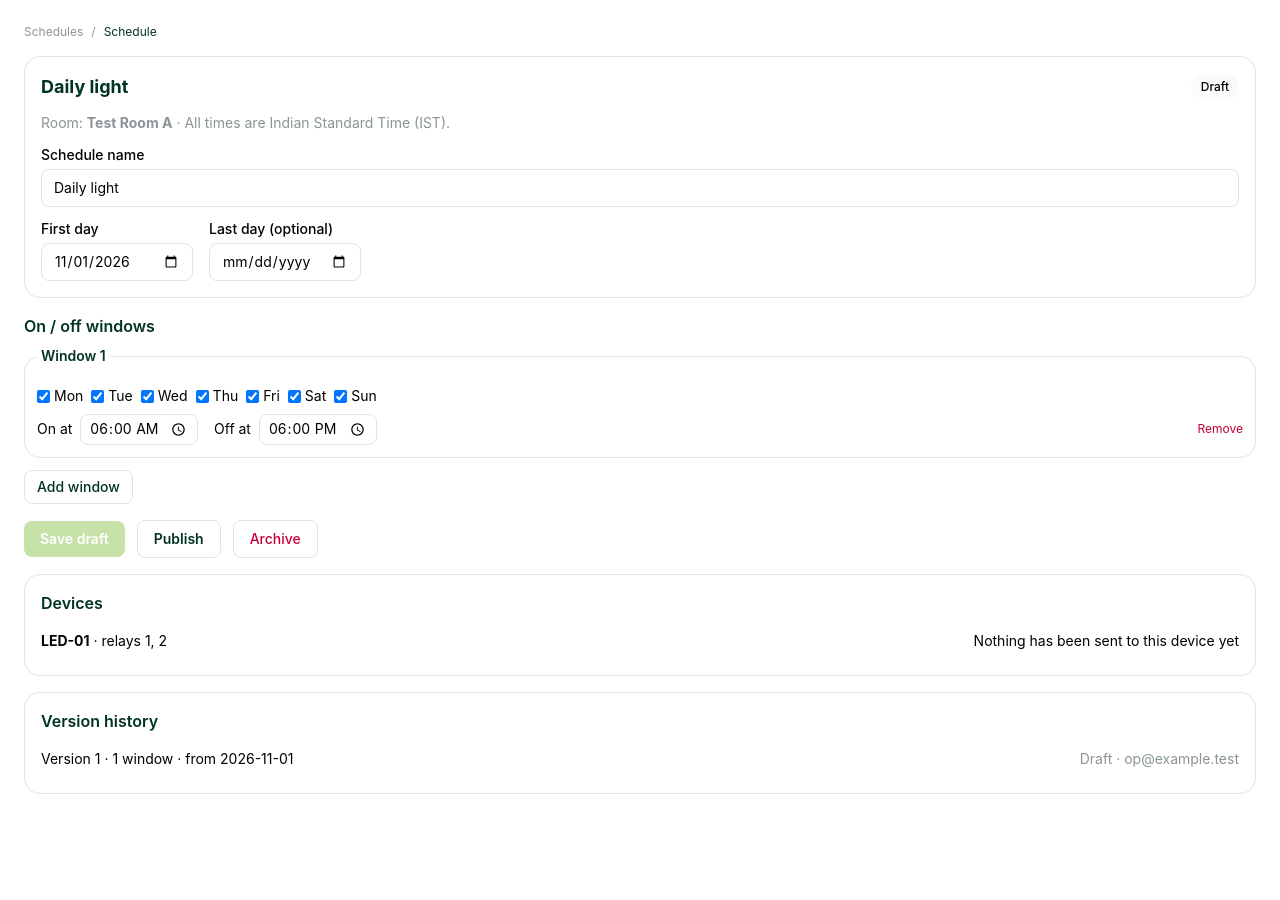
SchedulePage editor › edits a draft: PUT with the changed fields, publish is blocked while unsaved
Expected: the button "Publish" is enabled, [137,520,221,558]
Expected: the button "Save draft" is disabled, [24,521,125,557]
Replace the text in the time field named "Window 1 on time" with "07:00" at {"x": 139, "y": 429}, box [80,414,198,445]
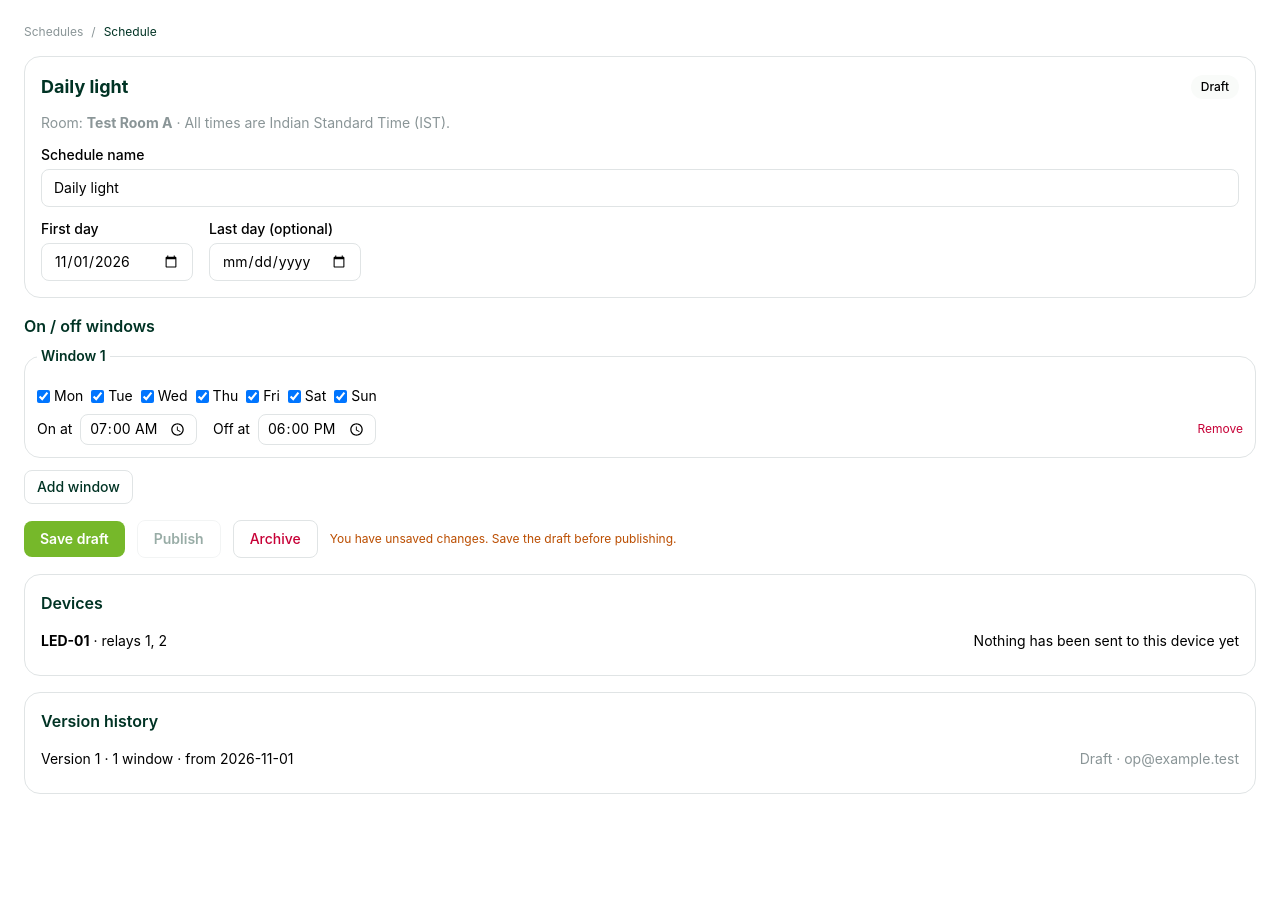
Expected: the button "Publish" is disabled, [137,520,221,558]
Expected: the text "You have unsaved changes. Save the draft before publishing." is shown, [330,531,676,547]
Click the button "Save draft" at {"x": 74, "y": 539}, box [24,521,125,557]
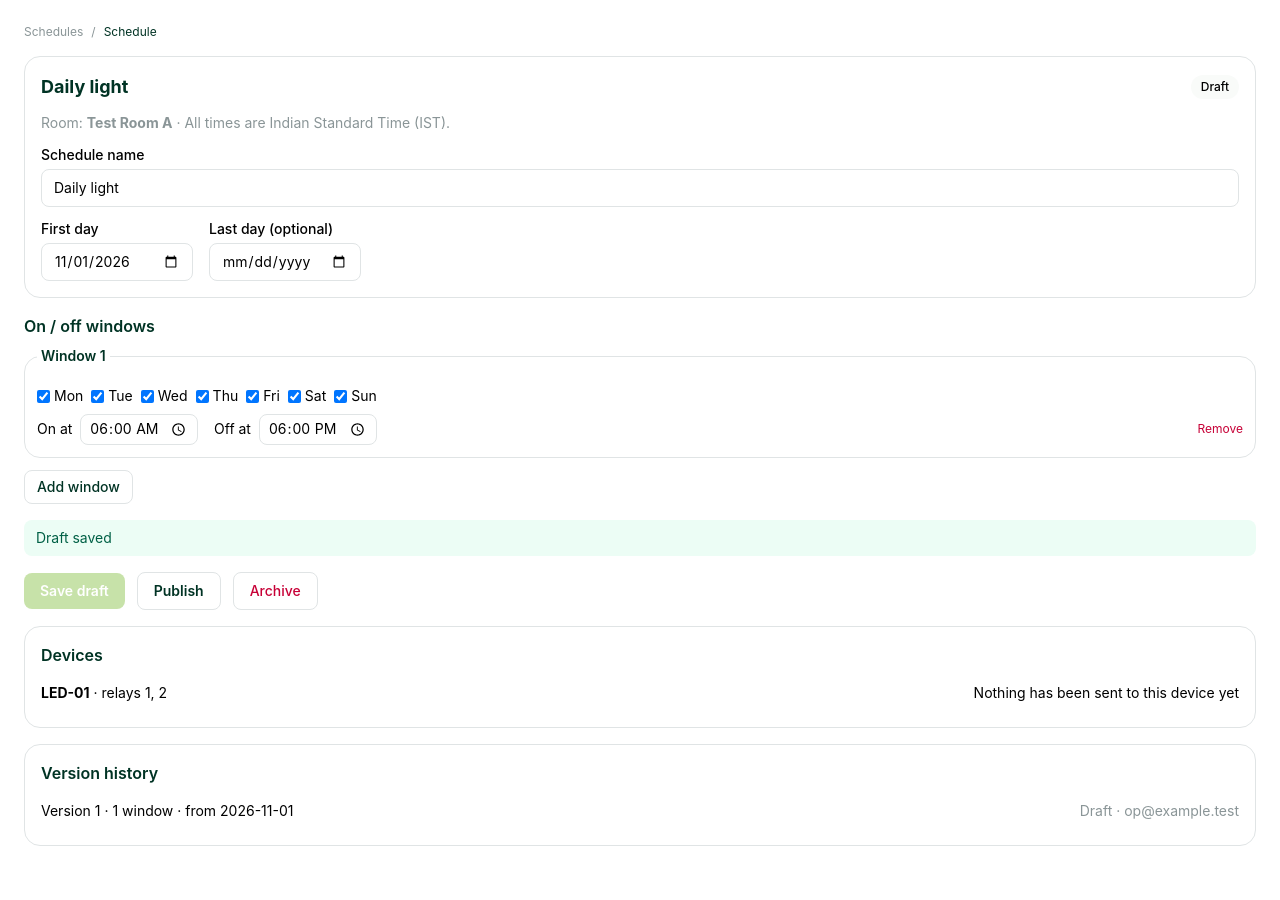
Expected: the text "Draft saved" is shown, [24,520,1256,556]
Expected: the button "Publish" is enabled, [137,572,221,610]
